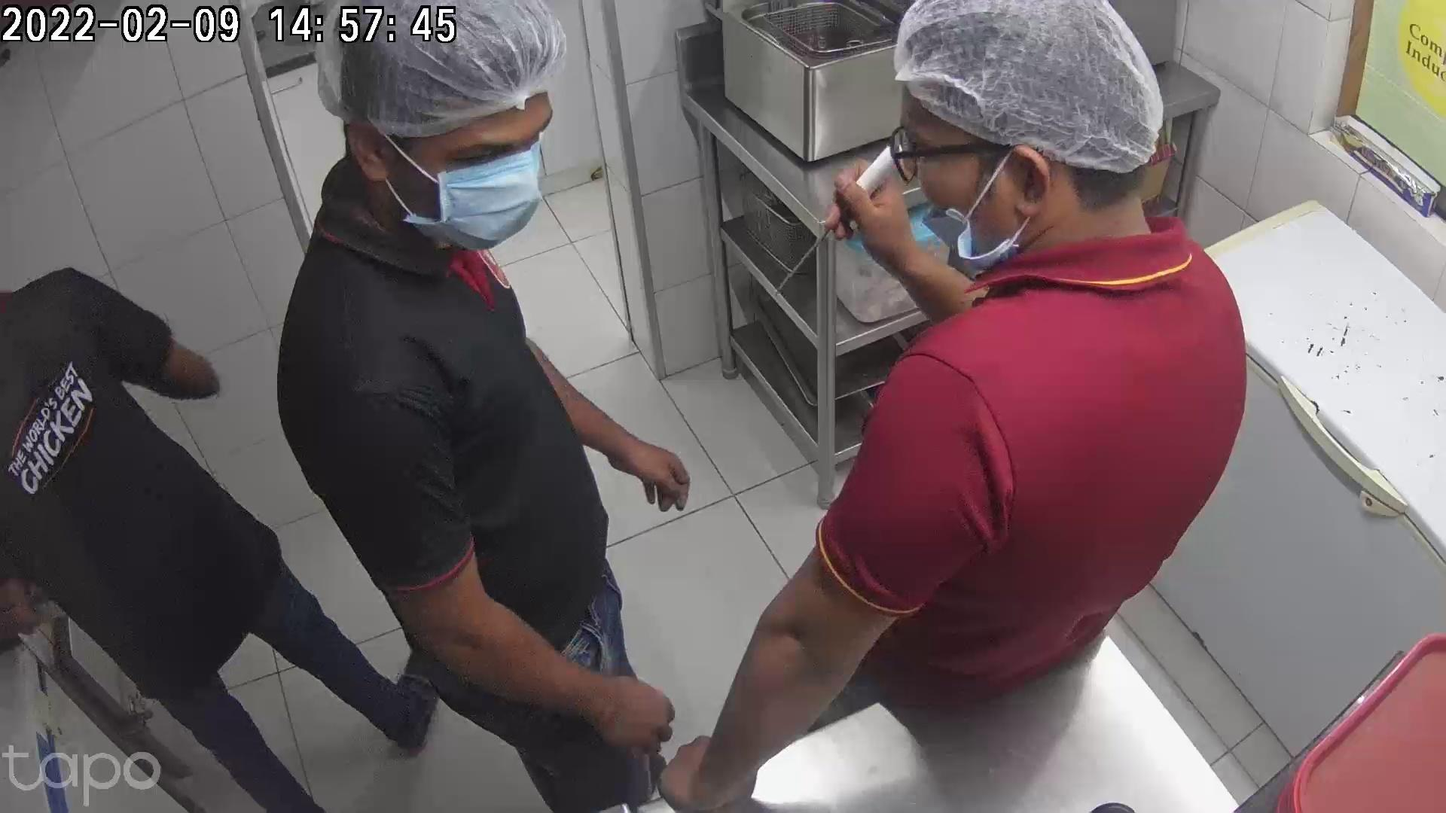no_gloves: (610, 428, 689, 516)
